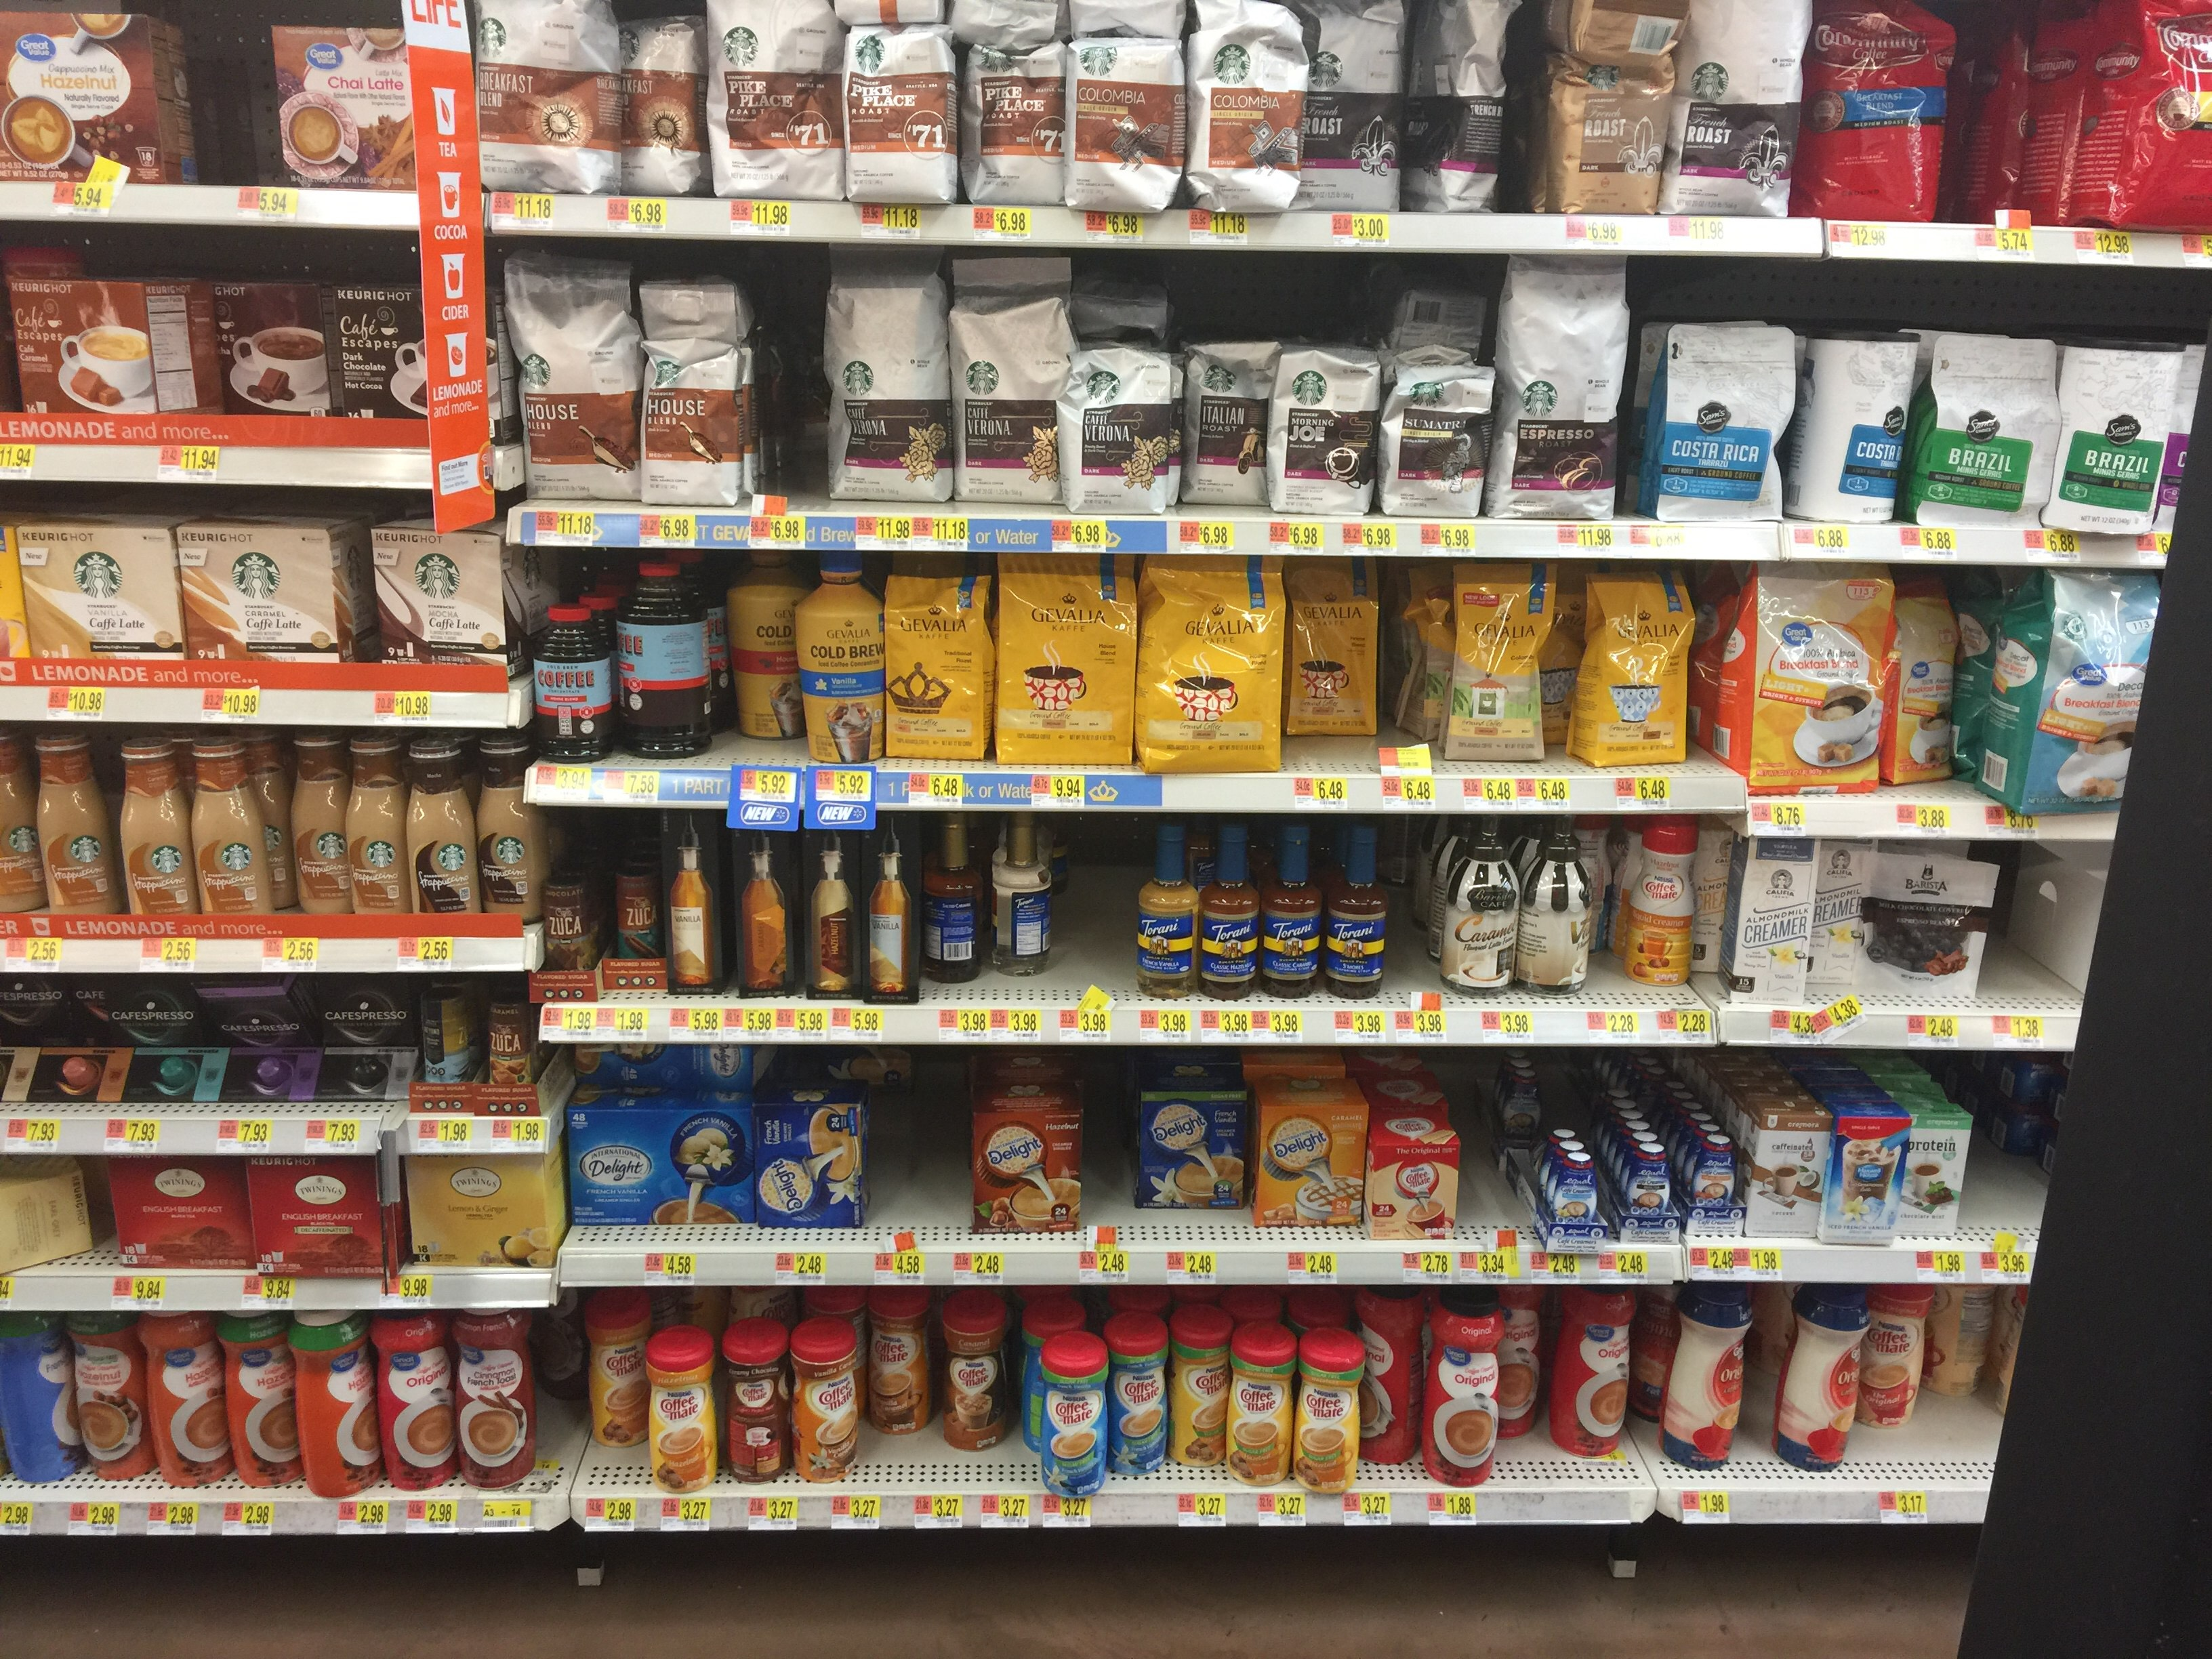Misplacement: (1285, 552, 1400, 779)
